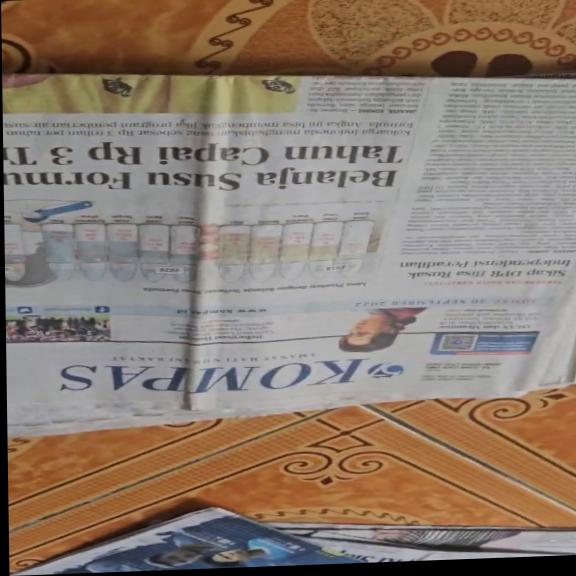Kertas: (7, 55, 576, 438)
